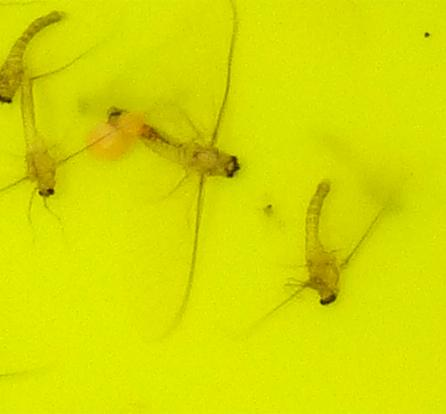Ephemeroptera: (100, 100, 246, 186), (292, 174, 346, 314), (1, 6, 67, 106), (14, 60, 60, 199)
